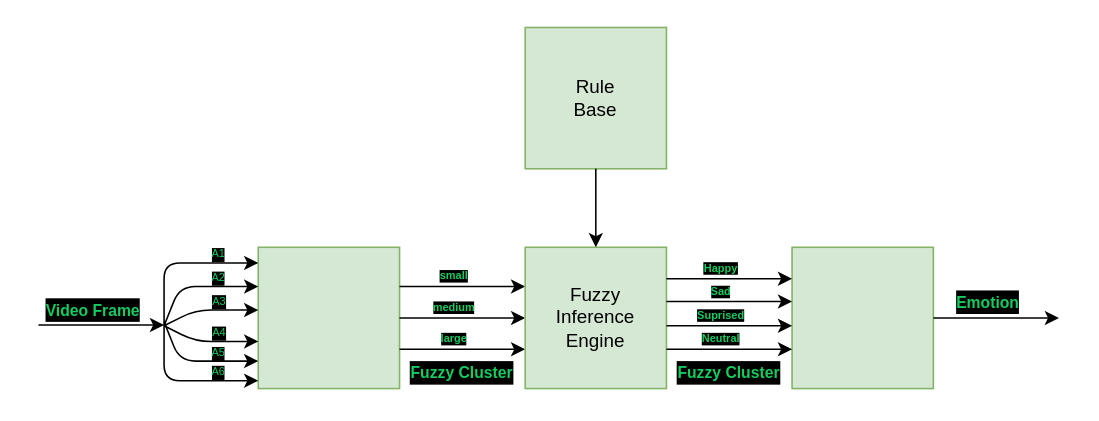
Some shapes in this 1099 by 421 pixel diagram are drawn without their labels. The shapes that lost their labels are listed below. From the top down, each one's centre as x and y in pixels, then its label:
the point at 328,317: Fuzzifier
the point at 861,317: Defuzzifier
